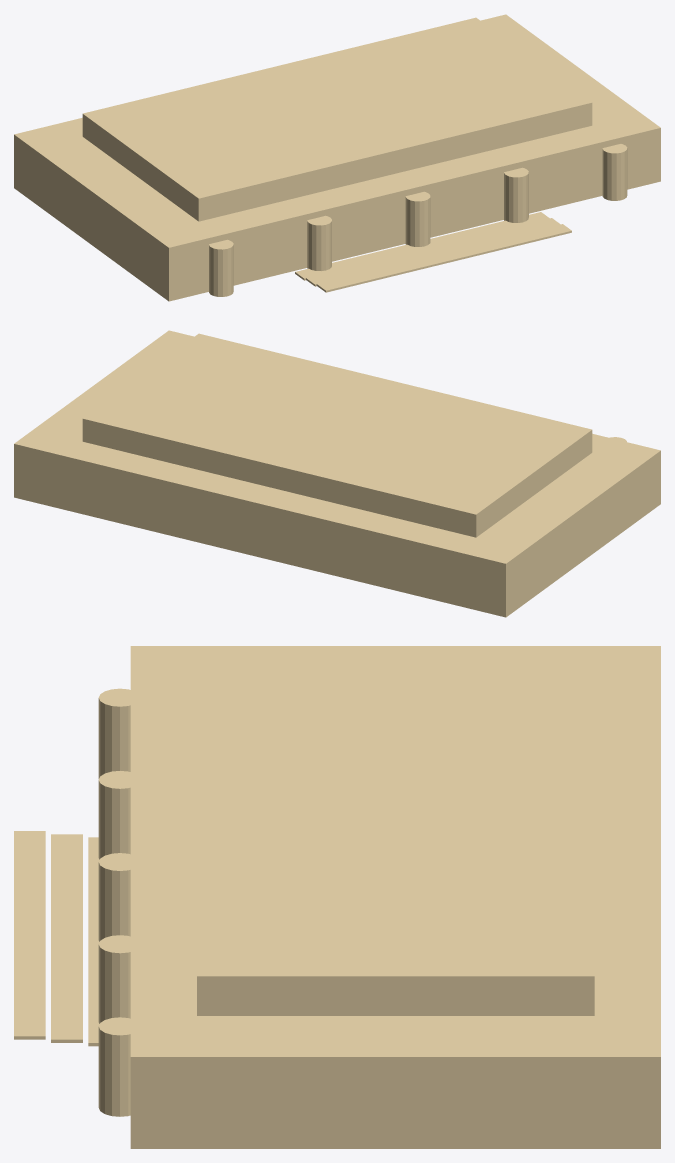
The model's file is visitor_experience_center.glb.
The picture shows the model from 3 angles, top to bottom: view 1: azimuth 30°, elevation 25°; view 2: azimuth 150°, elevation 25°; view 3: azimuth 270°, elevation 25°; orthographic projection. The views are drawn at different scales.
Visible parts, largest first — view 1: visitor_experience_center; view 2: visitor_experience_center; view 3: visitor_experience_center.
Part boxes in pixels (left/top/right/bottom): visitor_experience_center: left=14, top=14, right=660, bottom=301; visitor_experience_center: left=14, top=330, right=660, bottom=617; visitor_experience_center: left=14, top=646, right=660, bottom=1148.
Bounding box in the file's own units: 67.1 × 10 × 44.65.
